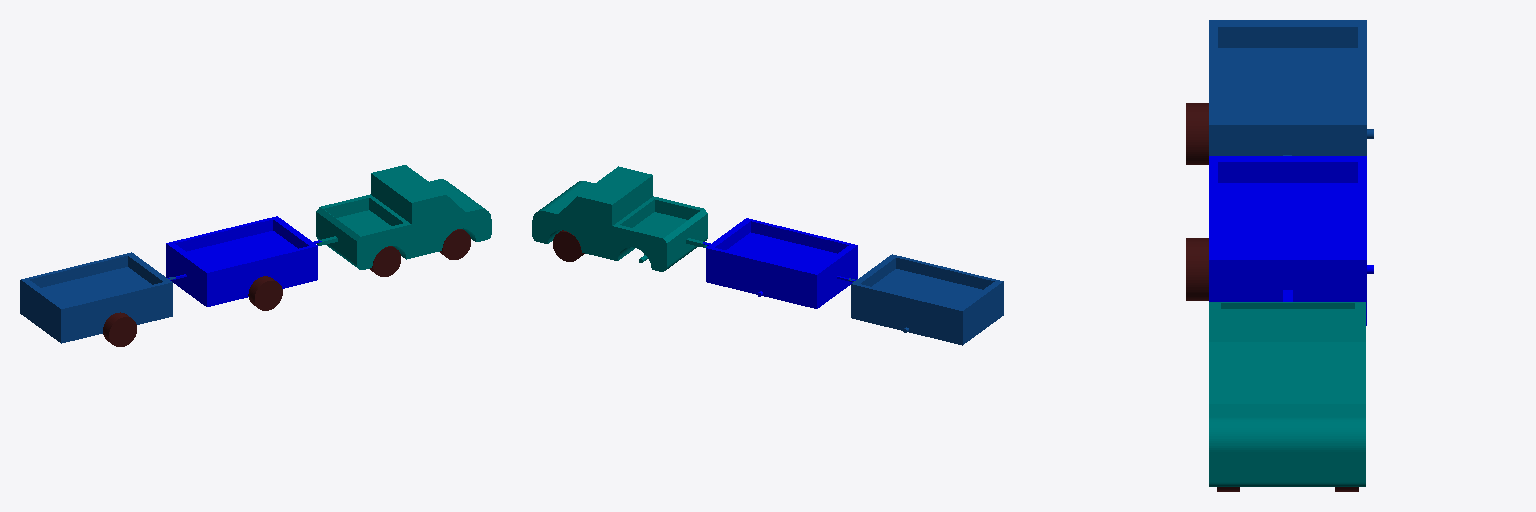
The robot description file, URDF, robot "my_robot":
<?xml version="1.0"?>

<robot name="my_robot">

  <ros2_control name="my_robot" type="system">
    <hardware>
      <plugin>mock_components/GenericSystem</plugin>
      <param name="calculate_dynamics">true</param>
      <!-- <plugin>ros2_control_demo_example_11/CarlikeBotSystemHardware</plugin>
            <param name="example_param_hw_start_duration_sec">0</param>
            <param name="example_param_hw_stop_duration_sec">3.0</param> -->
    </hardware>
    <joint name="wheel_1_turn">
      <command_interface name="position" />
      <state_interface name="position" />
    </joint>
    <joint name="wheel_3_rotate">
      <command_interface name="velocity" />
      <state_interface name="velocity" />
      <state_interface name="position" />
    </joint>
  </ros2_control>

  <link name="base_footprint" />

  <!-- ================= MAIN BODY OF THE ROBOT ================= -->
  <!-- Link representing the car body -->
  <link name="car">
    <!-- Physical properties of the car body -->
    <inertial>
      <origin xyz="2.64031 -0.0268655 0.124371" rpy="0 0 0" />
      <mass value="272.397" />
      <inertia ixx="8.49296" ixy="-3.31557e-08" ixz="-0.693976" iyy="18.6031" iyz="-6.39825e-08"
        izz="22.111" />
    </inertial>

    <!-- Visual representation of the car -->
    <visual>
      <origin xyz="2.59628 -0.0268655 0.07044" rpy="-5.08255e-17 -1.95707e-17 -3.14159" />
      <geometry>
        <mesh filename="package://project1_description/urdf/assets_1/car.stl" />
      </geometry>
      <material name="car_material">
        <color rgba="0 0.5 0.5 1" />
      </material>
    </visual>

    <!-- Collision model for physics simulation -->
    <collision>
      <origin xyz="2.59628 -0.0268655 0.07044" rpy="-5.08255e-17 -1.95707e-17 -3.14159" />
      <geometry>
        <mesh filename="package://project1_description/urdf/assets_1/car.stl" />
      </geometry>
    </collision>
  </link>

  <joint name="base_footprint_to_base_link" type="fixed">
    <parent link="base_footprint" />
    <child link="car" />
    <!-- Z offset equals the height from ground to chassis origin -->
    <origin xyz="0 0 0.2" rpy="0 0 0" />
  </joint>

  <!-- ================= FRONT WHEELS ================= -->
  <!-- Front Right Wheel -->
  <link name="wheel_front_right">
    <inertial>
      <origin xyz="0 -1.38778e-17 -0.0136924" rpy="0 0 0" />
      <mass value="2.073" />
      <inertia ixx="0.00644579" ixy="0" ixz="-1.53625e-35" iyy="0.00644579" iyz="0" izz="0.0109084" />
    </inertial>

    <!-- Visual appearance -->
    <visual>
      <origin xyz="0.25068 0.109 0.2028" rpy="-1.5708 8.85232e-34 0" />
      <geometry>
        <mesh filename="package://project1_description/urdf/assets_1/wheel_2.stl" />
      </geometry>
      <material name="wheel_front_right_material">
        <color rgba="0.286275 0.113725 0.113725 1" />
      </material>
    </visual>

    <!-- Collision model -->
    <collision>
      <origin xyz="0.25068 0.109 0.2028" rpy="-1.5708 8.85232e-34 0" />
      <geometry>
        <mesh filename="package://project1_description/urdf/assets_1/wheel_2.stl" />
      </geometry>
    </collision>
  </link>

  <!-- Joint connecting car to front right wheel -->
  <!-- <joint name="wheel_1_rotate" type="fixed">
    <origin xyz="2.84696 -0.204665 -0.03856" rpy="1.5708 1.74171e-17 -3.14159" />
    <parent link="car" />
    <child link="wheel_front_right" />
    <axis xyz="0 0 1" />
    <limit effort="10" velocity="10" />
  </joint> -->

  <joint name="wheel_1_turn" type="revolute">
    <origin xyz="2.84696 -0.204665 -0.03856" rpy="1.5708 1.74171e-17 -3.14159" />
    <parent link="car" />
    <child link="wheel_front_right" />
    <axis xyz="0 1 0" />
    <limit effort="10" velocity="10" lower="-0.5" upper="0.5" />
  </joint>

  <!-- Front Left Wheel -->
  <link name="wheel_front_left">
    <inertial>
      <origin xyz="4.44089e-16 1.38778e-17 -0.0136924" rpy="0 0 0" />
      <mass value="2.073" />
      <inertia ixx="0.00644579" ixy="0" ixz="-1.53625e-35" iyy="0.00644579" iyz="0" izz="0.0109084" />
    </inertial>

    <!-- Visual -->
    <visual>
      <origin xyz="0.25068 -0.109 0.2028" rpy="1.5708 8.85232e-34 0" />
      <geometry>
        <mesh filename="package://project1_description/urdf/assets_1/wheel_1.stl" />
      </geometry>
      <material name="wheel_front_left_material">
        <color rgba="0.286275 0.113725 0.113725 1" />
      </material>
    </visual>

    <!-- Collision -->
    <collision>
      <origin xyz="0.25068 -0.109 0.2028" rpy="1.5708 8.85232e-34 0" />
      <geometry>
        <mesh filename="package://project1_description/urdf/assets_1/wheel_1.stl" />
      </geometry>
    </collision>
  </link>

  <!-- Joint connecting car to front left wheel -->
  <!-- <joint name="wheel_2_rotate" type="fixed">
    <origin xyz="2.84696 0.150935 -0.03856" rpy="1.5708 -1.74171e-17 4.16334e-16" />
    <parent link="car" />
    <child link="wheel_front_left" />
    <axis xyz="0 0 1" />
    <limit effort="10" velocity="10" />
  </joint> -->

  <joint name="wheel_2_turn" type="revolute">
    <origin xyz="2.84696 0.150935 -0.03856" rpy="1.5708 -1.74171e-17 4.16334e-16" />
    <parent link="car" />
    <child link="wheel_front_left" />
    <axis xyz="0 1 0" />
    <limit effort="10" velocity="10" lower="-0.5" upper="0.5" />
    <mimic joint="wheel_1_turn" multiplier="1.0" offset="0.0" />
  </joint>

  <!-- ================= REAR WHEELS ================= -->
  <!-- Back Left Wheel -->
  <link name="wheel_back_left">
    <inertial>
      <origin xyz="0 -4.16334e-17 -0.0136924" rpy="0 0 0" />
      <mass value="2.073" />
      <inertia ixx="0.00644579" ixy="5.80054e-66" ixz="-3.11695e-34" iyy="0.00644579"
        iyz="-2.13907e-34" izz="0.0109084" />
    </inertial>

    <!-- Visual -->
    <visual>
      <origin xyz="-0.25068 -0.109 0.2028" rpy="1.5708 -2.46519e-32 0" />
      <geometry>
        <mesh filename="package://project1_description/urdf/assets_1/wheel_3.stl" />
      </geometry>
      <material name="wheel_back_left_material">
        <color rgba="0.266667 0.0941176 0.0941176 1" />
      </material>
    </visual>

    <!-- Collision -->
    <collision>
      <origin xyz="-0.25068 -0.109 0.2028" rpy="1.5708 -2.46519e-32 0" />
      <geometry>
        <mesh filename="package://project1_description/urdf/assets_1/wheel_3.stl" />
      </geometry>
    </collision>
  </link>

  <!-- Joint connecting car to back left wheel -->
  <joint name="wheel_3_rotate" type="continuous">
    <origin xyz="2.3456 0.150935 -0.03856" rpy="1.5708 -0.101632 3.60341e-16" />
    <parent link="car" />
    <child link="wheel_back_left" />
    <axis xyz="0 0 -1" />
    <limit effort="10" velocity="10" />
  </joint>

  <!-- Back Right Wheel -->
  <link name="wheel_back_right">
    <inertial>
      <origin xyz="0 -1.38778e-17 -0.0136924" rpy="0 0 0" />
      <mass value="2.073" />
      <inertia ixx="0.00644579" ixy="0" ixz="-1.53625e-35" iyy="0.00644579" iyz="0" izz="0.0109084" />
    </inertial>

    <!-- Visual -->
    <visual>
      <origin xyz="0.25068 0.109 0.2028" rpy="-1.5708 8.85232e-34 0" />
      <geometry>
        <mesh filename="package://project1_description/urdf/assets_1/wheel_2.stl" />
      </geometry>
      <material name="wheel_back_right_material">
        <color rgba="0.286275 0.113725 0.113725 1" />
      </material>
    </visual>

    <!-- Collision -->
    <collision>
      <origin xyz="0.25068 0.109 0.2028" rpy="-1.5708 8.85232e-34 0" />
      <geometry>
        <mesh filename="package://project1_description/urdf/assets_1/wheel_2.stl" />
      </geometry>
    </collision>
  </link>

  <!-- Joint connecting car to back right wheel -->
  <joint name="wheel_4_rotate" type="continuous">
    <origin xyz="2.3456 -0.204665 -0.03856" rpy="1.5708 1.74171e-17 -3.14159" />
    <parent link="car" />
    <child link="wheel_back_right" />
    <axis xyz="0 0 1" />
    <limit effort="10" velocity="10" />
    <mimic joint="wheel_3_rotate" multiplier="1.0" offset="0.0" />
  </joint>

  <!-- ================= TRAILER 1 ================= -->
  <!-- First trailer body -->
  <link name="trailer_1">
    <inertial>
      <origin xyz="0.553916 -0.00073121 -0.0381683" rpy="0 0 0" />
      <mass value="192.913" />
      <inertia ixx="5.05694" ixy="-1.03955e-06" ixz="0.000605924" iyy="11.6798" iyz="-2.39251e-09"
        izz="15.528" />
    </inertial>

    <!-- Visual -->
    <visual>
      <origin xyz="0.153998 0.253269 -0.0537474" rpy="0 -0 -9.94689e-34" />
      <geometry>
        <mesh filename="package://project1_description/urdf/assets_1/trailer_1.stl" />
      </geometry>
      <material name="trailer_1_material">
        <color rgba="0 0 1 1" />
      </material>
    </visual>

    <!-- Collision -->
    <collision>
      <origin xyz="0.153998 0.253269 -0.0537474" rpy="0 -0 -9.94689e-34" />
      <geometry>
        <mesh filename="package://project1_description/urdf/assets_1/trailer_1.stl" />
      </geometry>
    </collision>
  </link>

  <!-- ================= TRAILER 2 ================= -->
  <!-- Second trailer body -->
  <link name="trailer_2">
    <inertial>
      <origin xyz="0.553757 0.000731212 -0.038177" rpy="0 0 0" />
      <mass value="192.85" />
      <inertia ixx="5.05689" ixy="-1.25045e-16" ixz="0.00143767" iyy="11.6659" iyz="2.86391e-16"
        izz="15.5142" />
    </inertial>

    <!-- Visual -->
    <visual>
      <origin xyz="0.153998 0.254731 -0.0537474" rpy="0 -0 -9.94689e-34" />
      <geometry>
        <mesh filename="package://project1_description/urdf/assets_1/trailer_2.stl" />
      </geometry>
      <material name="trailer_2_material">
        <color rgba="0.0862745 0.321569 0.580392 1" />
      </material>
    </visual>

    <!-- Collision -->
    <collision>
      <origin xyz="0.153998 0.254731 -0.0537474" rpy="0 -0 -9.94689e-34" />
      <geometry>
        <mesh filename="package://project1_description/urdf/assets_1/trailer_2.stl" />
      </geometry>
    </collision>
  </link>

  <!-- ================= TRAILER 2 WHEELS ================= -->
  <!-- Left wheel of trailer 2 -->
  <link name="trailer_2_left_wheel">
    <inertial>
      <origin xyz="0 0 -0.0136924" rpy="0 0 0" />
      <mass value="2.073" />
      <inertia ixx="0.00644579" ixy="0" ixz="2.5332e-34" iyy="0.00644579" iyz="0" izz="0.0109084" />
    </inertial>

    <!-- Visual representation -->
    <visual>
      <origin xyz="-0.25068 -0.109 0.2028" rpy="1.5708 -1.45971e-32 0" />
      <geometry>
        <mesh filename="package://project1_description/urdf/assets_1/wheel_3.stl" />
      </geometry>
      <material name="trailer_2_left_wheel_material">
        <color rgba="0.266667 0.0941176 0.0941176 1" />
      </material>
    </visual>

    <!-- Collision geometry -->
    <collision>
      <origin xyz="-0.25068 -0.109 0.2028" rpy="1.5708 -1.45971e-32 0" />
      <geometry>
        <mesh filename="package://project1_description/urdf/assets_1/wheel_3.stl" />
      </geometry>
    </collision>
  </link>

  <!-- Revolute joint connecting trailer_2 to its left wheel -->
  <joint name="trailer_2_left_wheel_rotate" type="continuous">
    <origin xyz="0.553998 -0.278269 -0.111928" rpy="1.5708 -7.0243e-16 3.14159" />
    <parent link="trailer_2" />
    <child link="trailer_2_left_wheel" />
    <axis xyz="0 0 1" />
    <limit effort="10" velocity="10" />
    <mimic joint="wheel_3_rotate" multiplier="-1.0" offset="0.0" />
  </joint>

  <!-- Right wheel of trailer 2 -->
  <link name="trailer_2_right_wheel">
    <inertial>
      <origin xyz="-5.55112e-17 -2.77556e-17 -0.0136924" rpy="0 0 0" />
      <mass value="2.073" />
      <inertia ixx="0.00644579" ixy="0" ixz="2.5332e-34" iyy="0.00644579" iyz="0" izz="0.0109084" />
    </inertial>

    <!-- Visual representation -->
    <visual>
      <origin xyz="0.25068 0.109 0.2028" rpy="-1.5708 -1.45971e-32 0" />
      <geometry>
        <mesh filename="package://project1_description/urdf/assets_1/wheel_2.stl" />
      </geometry>
      <material name="trailer_2_right_wheel_material">
        <color rgba="0.286275 0.113725 0.113725 1" />
      </material>
    </visual>

    <!-- Collision geometry -->
    <collision>
      <origin xyz="0.25068 0.109 0.2028" rpy="-1.5708 -1.45971e-32 0" />
      <geometry>
        <mesh filename="package://project1_description/urdf/assets_1/wheel_2.stl" />
      </geometry>
    </collision>
  </link>

  <!-- Revolute joint connecting trailer_2 to its right wheel -->
  <joint name="trailer_2_right_wheel_rotate" type="continuous">
    <origin xyz="0.553998 0.279731 -0.111928" rpy="1.5708 7.0243e-16 -1.66533e-16" />
    <parent link="trailer_2" />
    <child link="trailer_2_right_wheel" />
    <axis xyz="0 0 1" />
    <limit effort="10" velocity="10" />
    <mimic joint="wheel_3_rotate" multiplier="1.0" offset="0.0" />
  </joint>

  <!-- Joint connecting trailer_1 to trailer_2 (hook articulation) -->
  <joint name="trailer_2_hook_rotate" type="revolute">
    <origin xyz="1.04451 -0.00106933 -0.00510208" rpy="-3.61767e-30 4.34182e-30 5.55112e-17" />
    <parent link="trailer_1" />
    <child link="trailer_2" />
    <axis xyz="0 0 1" />
    <!-- Rotational limit of ±30 degrees -->
    <limit effort="10" velocity="10" lower="-0.523599" upper="0.523599" />
  </joint>

  <!-- ================= TRAILER 1 WHEELS ================= -->
  <!-- Left wheel of trailer 1 -->
  <link name="trailer_1_left_wheel">
    <inertial>
      <origin xyz="0 1.38778e-17 -0.0136924" rpy="0 0 0" />
      <mass value="2.073" />
      <inertia ixx="0.00644579" ixy="0" ixz="-3.99475e-34" iyy="0.00644579" iyz="0" izz="0.0109084" />
    </inertial>

    <!-- Visual -->
    <visual>
      <origin xyz="-0.25068 -0.109 0.2028" rpy="1.5708 2.3019e-32 0" />
      <geometry>
        <mesh filename="package://project1_description/urdf/assets_1/wheel_3.stl" />
      </geometry>
      <material name="trailer_1_left_wheel_material">
        <color rgba="0.266667 0.0941176 0.0941176 1" />
      </material>
    </visual>

    <!-- Collision -->
    <collision>
      <origin xyz="-0.25068 -0.109 0.2028" rpy="1.5708 2.3019e-32 0" />
      <geometry>
        <mesh filename="package://project1_description/urdf/assets_1/wheel_3.stl" />
      </geometry>
    </collision>
  </link>

  <!-- Joint connecting trailer_1 to its left wheel -->
  <joint name="trailer_1_left_wheel_rotate" type="continuous">
    <origin xyz="0.553998 -0.279731 -0.111928" rpy="1.5708 4.97587e-16 3.14159" />
    <parent link="trailer_1" />
    <child link="trailer_1_left_wheel" />
    <axis xyz="0 0 1" />
    <limit effort="10" velocity="10" />
    <mimic joint="wheel_3_rotate" multiplier="-1.0" offset="0.0" />
  </joint>

  <!-- Right wheel of trailer 1 -->
  <link name="trailer_1_right_wheel">
    <inertial>
      <origin xyz="-2.22045e-16 0 -0.0136924" rpy="0 0 0" />
      <mass value="2.073" />
      <inertia ixx="0.00644579" ixy="-1.54752e-66" ixz="-3.99475e-34" iyy="0.00644579"
        iyz="1.06953e-34" izz="0.0109084" />
    </inertial>

    <!-- Visual -->
    <visual>
      <origin xyz="0.25068 0.109 0.2028" rpy="-1.5708 2.3019e-32 0" />
      <geometry>
        <mesh filename="package://project1_description/urdf/assets_1/wheel_2.stl" />
      </geometry>
      <material name="trailer_1_right_wheel_material">
        <color rgba="0.286275 0.113725 0.113725 1" />
      </material>
    </visual>

    <!-- Collision -->
    <collision>
      <origin xyz="0.25068 0.109 0.2028" rpy="-1.5708 2.3019e-32 0" />
      <geometry>
        <mesh filename="package://project1_description/urdf/assets_1/wheel_2.stl" />
      </geometry>
    </collision>
  </link>

  <!-- Joint connecting trailer_1 to its right wheel -->
  <joint name="trailer_1_right_wheel_rotate" type="continuous">
    <origin xyz="0.553998 0.278269 -0.111928" rpy="1.5708 -4.97587e-16 -5.55112e-17" />
    <parent link="trailer_1" />
    <child link="trailer_1_right_wheel" />
    <axis xyz="0 0 1" />
    <limit effort="10" velocity="10" />
    <mimic joint="wheel_3_rotate" multiplier="1.0" offset="0.0" />
  </joint>

  <!-- Joint connecting car to trailer_1 (main hitch) -->
  <joint name="trailer_1_hook_rotate" type="revolute">
    <origin xyz="1.99047 -0.0268655 0.09544" rpy="-5.08255e-17 -1.95707e-17 -3.14159" />
    <parent link="car" />
    <child link="trailer_1" />
    <axis xyz="0 0 1" />
    <!-- Rotational limit of ±30 degrees -->
    <limit effort="10" velocity="10" lower="-0.523599" upper="0.523599" />
  </joint>

  <!-- ================= LIDAR SENSOR ================= -->
  <!-- Lidar sensor mounted on top of car -->
  <link name="lidar">
    <inertial>
      <origin xyz="1.03328e-18 1.28749e-18 -0.0125" rpy="0 0 0" />
      <mass value="0.102259" />
      <inertia ixx="3.7331e-05" ixy="0" ixz="0" iyy="3.7331e-05" iyz="0" izz="6.401e-05" />
    </inertial>

    <!-- Visual -->
    <visual>
      <origin xyz="0 -0.00011979 0" rpy="3.14159 -0 0" />
      <geometry>
        <mesh filename="package://project1_description/urdf/assets_1/lidar.stl" />
      </geometry>
      <material name="lidar_material">
        <color rgba="0 0 0 1" />
      </material>
    </visual>

    <!-- Collision -->
    <collision>
      <origin xyz="0 -0.00011979 0" rpy="3.14159 -0 0" />
      <geometry>
        <mesh filename="package://project1_description/urdf/assets_1/lidar.stl" />
      </geometry>
    </collision>
  </link>

  <!-- Joint connecting car to lidar (allows rotation) -->
  <joint name="lidar_joint" type="revolute">
    <origin xyz="2.62973 -0.0268655 0.34044" rpy="3.14159 -0 3.14159" />
    <parent link="car" />
    <child link="lidar" />
    <axis xyz="0 0 1" />
    <!-- Full 360° rotation limit -->
    <limit effort="10" velocity="10" lower="-3.141592653589793" upper="3.141592653589793" />
  </joint>

</robot>

--- Facts derived from the render (not from the file) ---
3 views of the same robot in one strip: view 1: azimuth 30°, elevation 25°; view 2: azimuth 150°, elevation 25°; view 3: azimuth 270°, elevation 25° (orthographic).
Model my_robot with 13 links and 12 joints (5 revolute, 6 continuous, 1 fixed), rooted at base_footprint, posed every joint at zero.
Links seen in each view (by area): view 1: car, trailer_2, trailer_1, trailer_1_right_wheel, trailer_2_right_wheel, wheel_front_right, wheel_back_right; view 2: car, trailer_2, trailer_1, wheel_front_left; view 3: car, trailer_1, trailer_2, trailer_1_right_wheel, trailer_2_right_wheel.
Boxes of the visible links, left/top/right/bottom form: car: left=316, top=165, right=491, bottom=269; trailer_2: left=20, top=252, right=175, bottom=343; trailer_1: left=166, top=216, right=321, bottom=306; trailer_1_right_wheel: left=248, top=276, right=282, bottom=310; trailer_2_right_wheel: left=103, top=312, right=136, bottom=346; wheel_front_right: left=440, top=229, right=470, bottom=259; wheel_back_right: left=370, top=246, right=400, bottom=276; car: left=532, top=166, right=707, bottom=271; trailer_2: left=848, top=254, right=1003, bottom=345; trailer_1: left=703, top=218, right=857, bottom=308; wheel_front_left: left=553, top=230, right=584, bottom=261; car: left=1209, top=302, right=1365, bottom=486; trailer_1: left=1209, top=156, right=1373, bottom=325; trailer_2: left=1209, top=20, right=1373, bottom=155; trailer_1_right_wheel: left=1186, top=238, right=1208, bottom=300; trailer_2_right_wheel: left=1186, top=103, right=1208, bottom=164.
Size in the robot's own frame: 3.09 by 0.6096 by 0.4805 metres.
Meshes: 7 distinct files referenced, 8 mesh visuals loaded (5 binary STL); not drawn: 4 (reference not matched to a file when rendering).